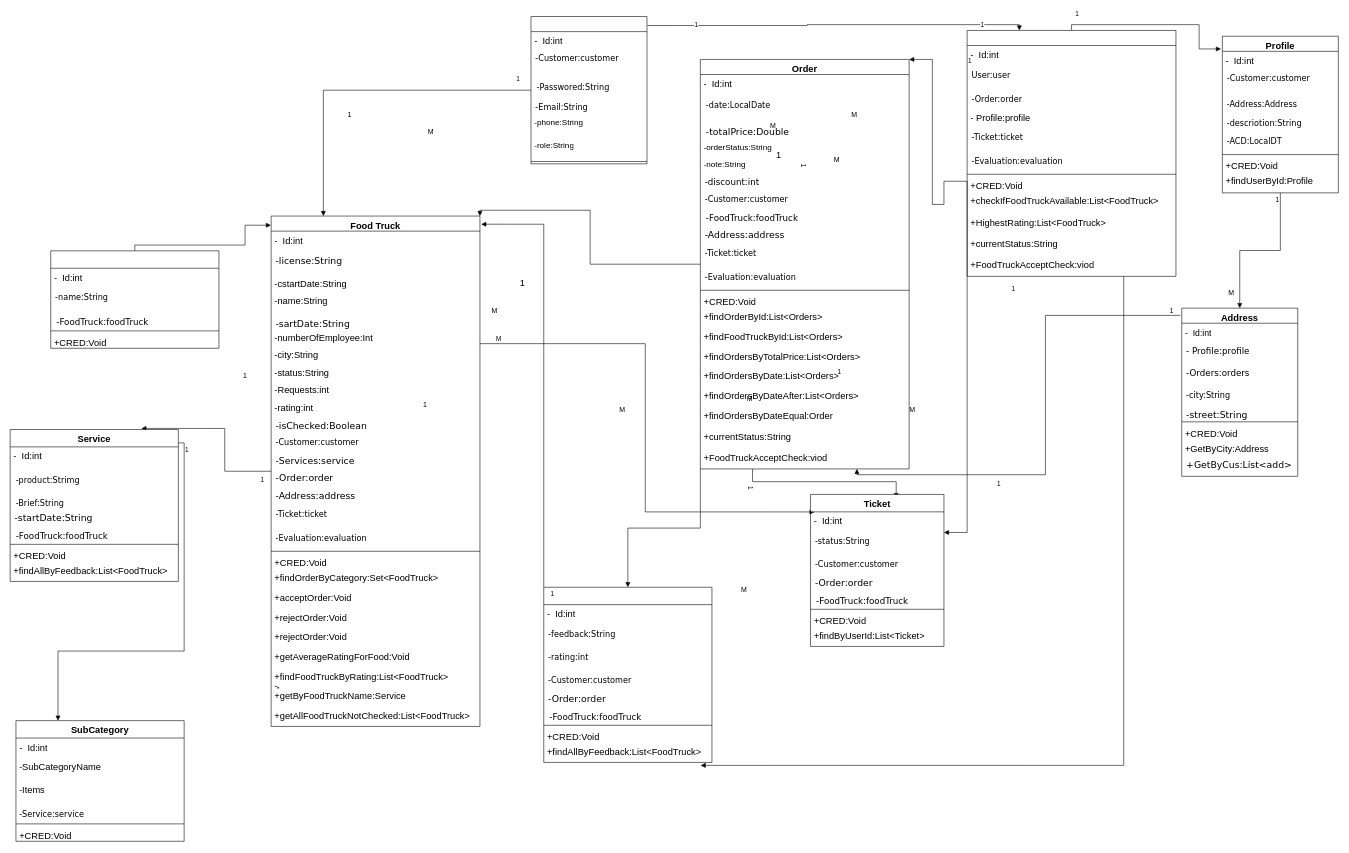
Some shapes in this 1349 by 853 pixel diagram are drawn without their labels. Each missing label, with the box of its shape:
Category: (50, 250, 219, 348)
Customer: (967, 30, 1176, 276)
Evaluation: (543, 587, 712, 762)
User: (530, 16, 647, 164)
